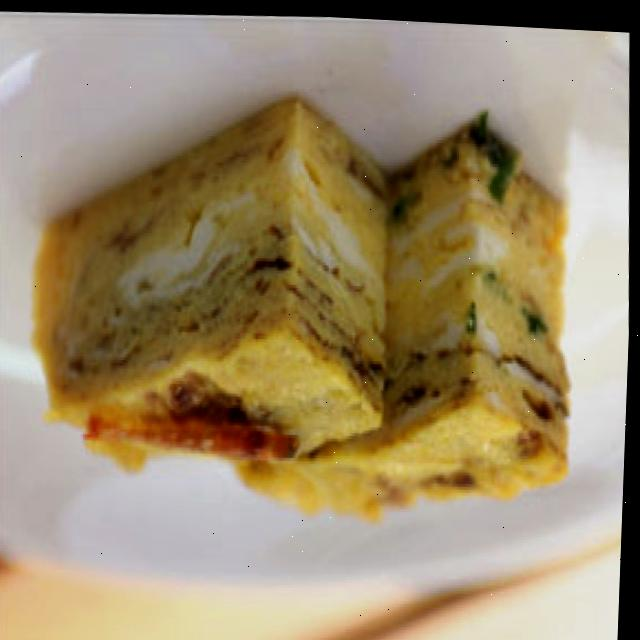鸡蛋料理: (12, 61, 596, 555)
